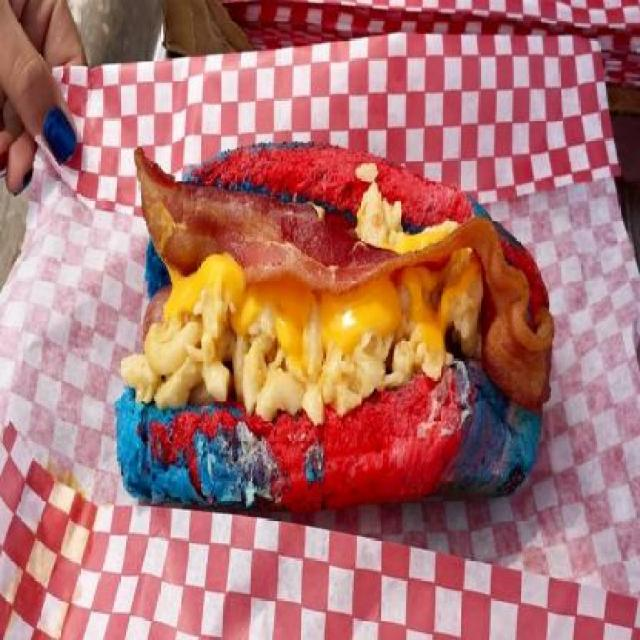hot dog: (132, 269, 174, 351)
macaroni and cheese: (119, 278, 463, 418)
